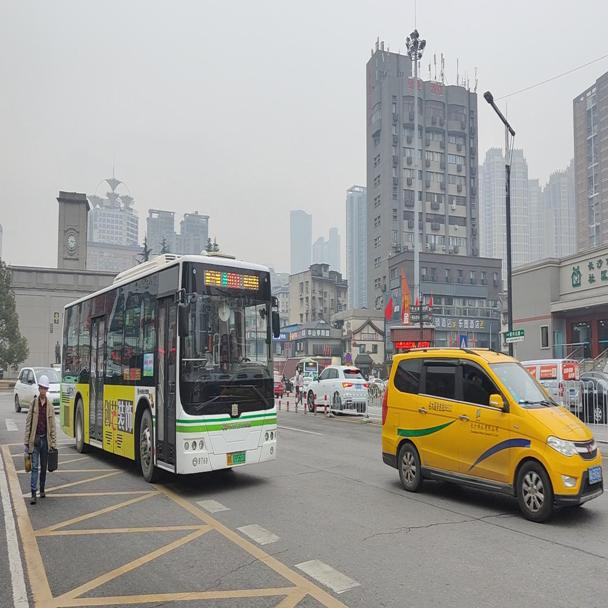bus: (58, 250, 280, 484)
screen: (227, 271, 240, 288)
